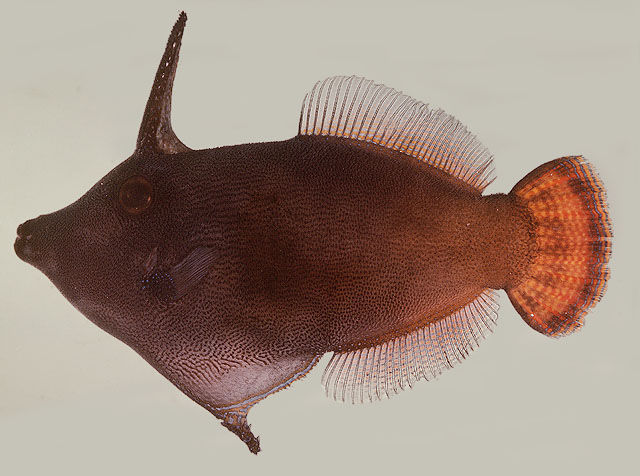fish: (13, 11, 614, 456)
